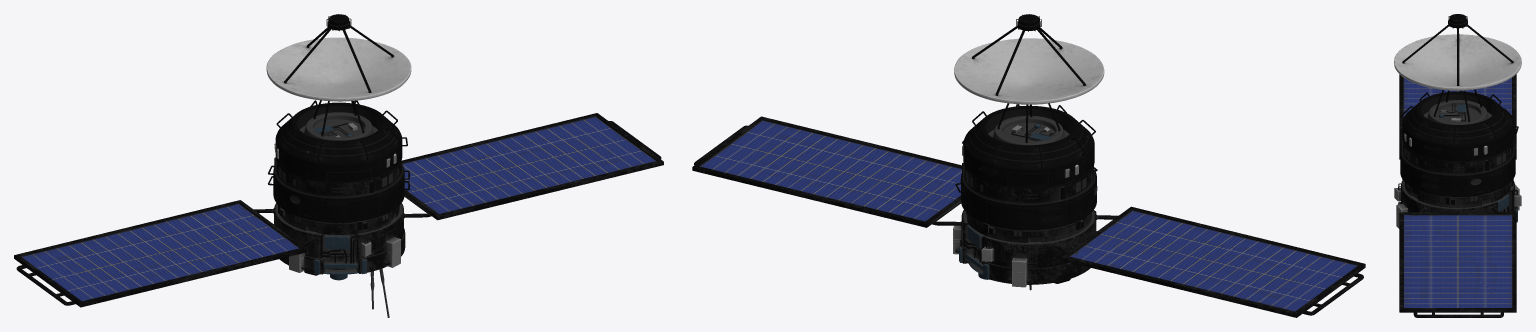
The model's file is satellite.glb.
The picture shows the model from 3 angles, left to right: view 1: azimuth 30°, elevation 25°; view 2: azimuth 150°, elevation 25°; view 3: azimuth 270°, elevation 25°; orthographic projection. The views are drawn at different scales.
Parts seen in each view (by area): view 1: satellite.1; view 2: satellite.1; view 3: satellite.1.
Boxes of the visible parts, <box> form: satellite.1: <box>14,14,663,317</box>; satellite.1: <box>692,14,1365,317</box>; satellite.1: <box>1394,14,1521,317</box>.
Size of the model in its own units: 3.47 by 1.59 by 0.731.
1 material, 1 textured.
